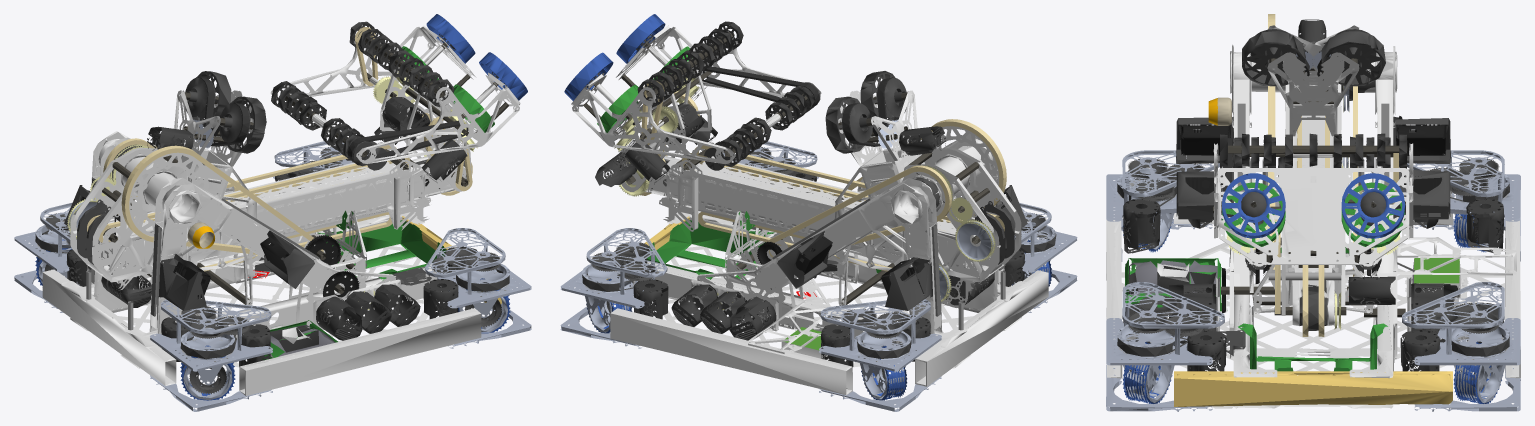
3 renders of one model, left to right at view 1: azimuth 30°, elevation 25°; view 2: azimuth 150°, elevation 25°; view 3: azimuth 270°, elevation 25°, orthographic. The views are drawn at different scales.
Visible parts, largest first — view 1: body.mat_2, armpivot.mat_2, body.mat_45, wrist.mat_2, body.mat_15, body.mat_5, wrist.mat_15, body.mat_25, body.mat_0, stage1.mat_2, body.mat_24, armpivot.mat_71 (+23 smaller); view 2: body.mat_2, armpivot.mat_2, body.mat_45, wrist.mat_2, body.mat_15, wrist.mat_15, body.mat_5, body.mat_25, body.mat_0, stage1.mat_2, body.mat_71, armpivot.mat_71 (+22 smaller); view 3: body.mat_2, body.mat_45, wrist.mat_2, body.mat_5, body.mat_15, body.mat_33, body.mat_25, body.mat_0, wrist.mat_48, wrist.mat_15, body.mat_63, body.mat_24 (+22 smaller).
Boxes of the visible parts, <box> form: body.mat_2: <box>42,90,481,395</box>; armpivot.mat_2: <box>70,142,421,289</box>; body.mat_45: <box>36,140,509,400</box>; wrist.mat_2: <box>270,25,520,191</box>; body.mat_15: <box>67,171,477,366</box>; body.mat_5: <box>35,71,509,394</box>; wrist.mat_15: <box>271,21,454,159</box>; body.mat_25: <box>14,170,531,411</box>; body.mat_0: <box>64,185,431,310</box>; stage1.mat_2: <box>89,150,430,274</box>; body.mat_24: <box>262,210,446,360</box>; armpivot.mat_71: <box>87,145,409,271</box>; body.mat_2: <box>610,90,1048,395</box>; armpivot.mat_2: <box>668,126,1021,307</box>; body.mat_45: <box>582,141,1055,399</box>; wrist.mat_2: <box>571,26,821,191</box>; body.mat_15: <box>614,171,1024,366</box>; wrist.mat_15: <box>637,21,814,167</box>; body.mat_5: <box>582,71,1056,380</box>; body.mat_25: <box>560,165,1077,411</box>; body.mat_0: <box>732,185,1027,310</box>; stage1.mat_2: <box>659,150,1002,275</box>; body.mat_71: <box>766,119,1006,257</box>; armpivot.mat_71: <box>682,145,1004,271</box>; body.mat_2: <box>1106,25,1520,408</box>; body.mat_45: <box>1117,150,1509,403</box>; wrist.mat_2: <box>1213,143,1413,315</box>; body.mat_5: <box>1117,31,1509,374</box>; body.mat_15: <box>1123,198,1503,371</box>; body.mat_33: <box>1174,371,1452,406</box>; body.mat_25: <box>1106,174,1520,411</box>; body.mat_0: <box>1176,116,1450,355</box>; wrist.mat_48: <box>1222,173,1405,238</box>; wrist.mat_15: <box>1220,133,1407,168</box>; body.mat_63: <box>1180,124,1445,194</box>; body.mat_24: <box>1125,247,1387,371</box>.
Bounding box in the file's own units: 0.8686 × 0.4743 × 0.6607.
